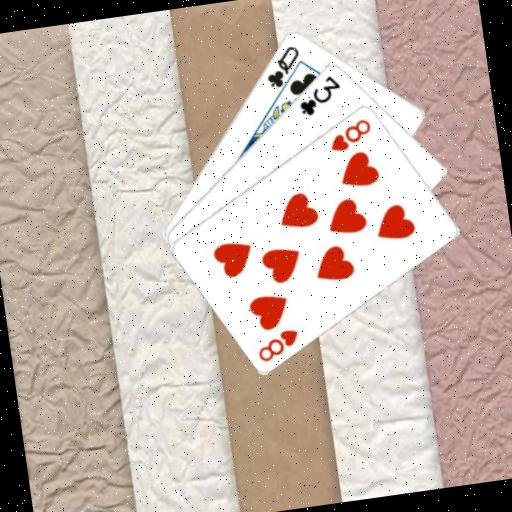3C: (293, 71, 346, 119)
8H: (324, 114, 376, 154), (252, 325, 303, 365)
QC: (260, 41, 306, 91)
